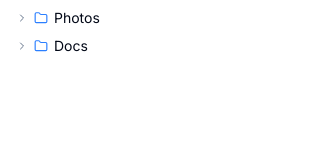
Test case: <FileTree> › expandiert root, laedt files und zeigt direkte unterordner
Click the button named "Photos erweitern": (22, 18) [14,10,30,26]
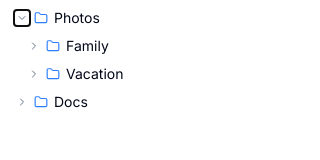
Expected: the text "Family" is shown, [66,36,109,56]
Expected: the text "Vacation" is shown, [66,64,124,84]
